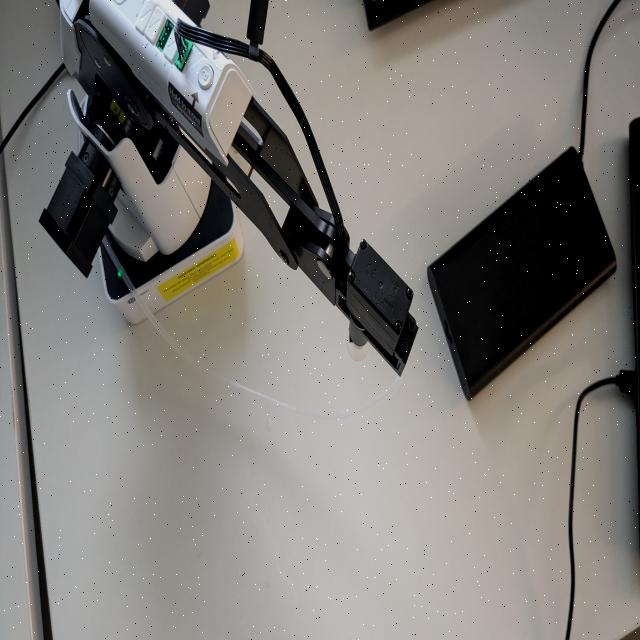Robot-end-effector-HF8z: (342, 235, 420, 376)
